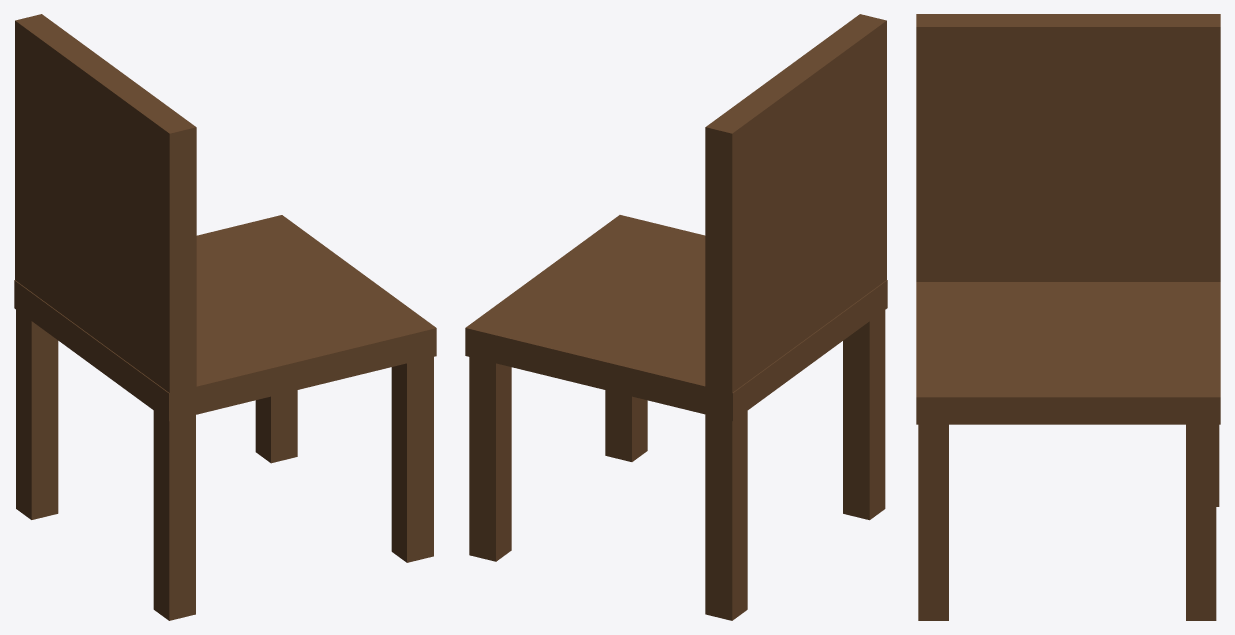
Rendered from Chair.fbx.
The picture shows the model from 3 angles, left to right: view 1: azimuth 30°, elevation 25°; view 2: azimuth 150°, elevation 25°; view 3: azimuth 270°, elevation 25°; orthographic projection.
Visible parts, largest first — view 1: Cube.006; view 2: Cube.006; view 3: Cube.006.
Part boxes in pixels (x1=…): Cube.006: x1=14, y1=14, x2=436, y2=620; Cube.006: x1=465, y1=14, x2=887, y2=620; Cube.006: x1=916, y1=14, x2=1220, y2=620.
Bounding box in the file's own units: 200 × 348 × 200.
